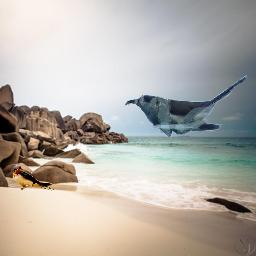Cuckoo: (125, 75, 251, 138)
Swallow: (12, 165, 57, 193)
